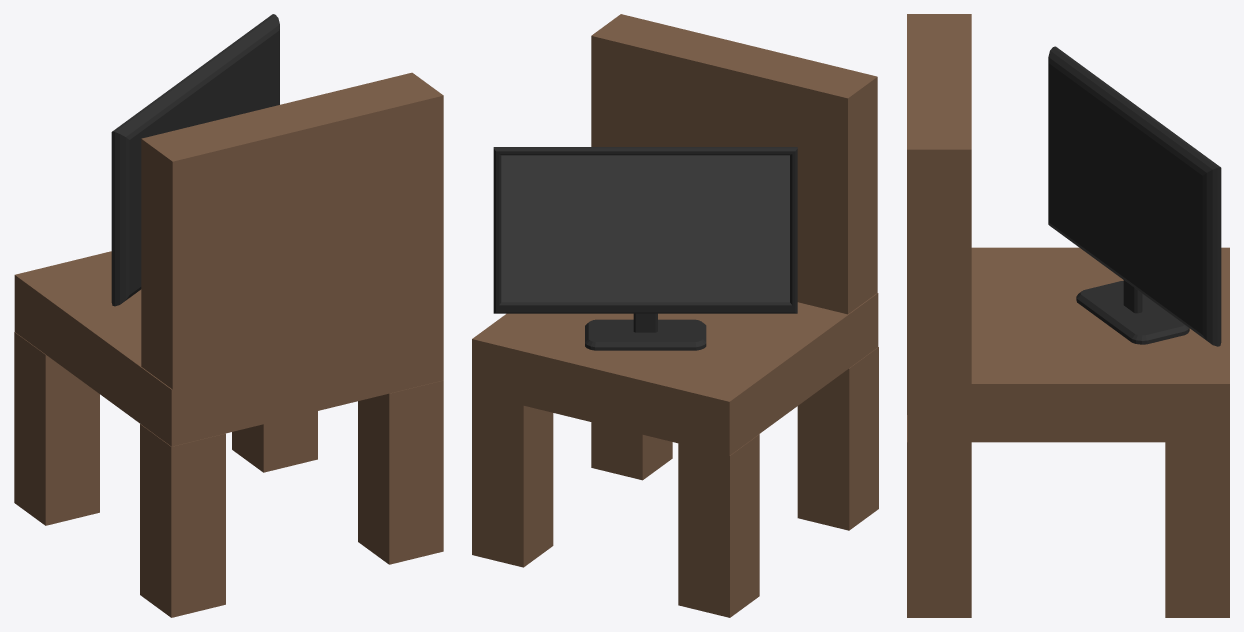
3 renders of one model, left to right at view 1: azimuth 30°, elevation 25°; view 2: azimuth 150°, elevation 25°; view 3: azimuth 270°, elevation 25°, orthographic. The views are drawn at different scales.
Parts seen in each view (by area): view 1: mergedBlocks(Clone); view 2: mergedBlocks(Clone); view 3: mergedBlocks(Clone).
Boxes of the visible parts, bbox=[...] form: mergedBlocks(Clone): bbox=[14, 14, 443, 617]; mergedBlocks(Clone): bbox=[472, 14, 878, 617]; mergedBlocks(Clone): bbox=[907, 14, 1229, 617].
Size of the model in its own units: 5 by 8 by 5.
